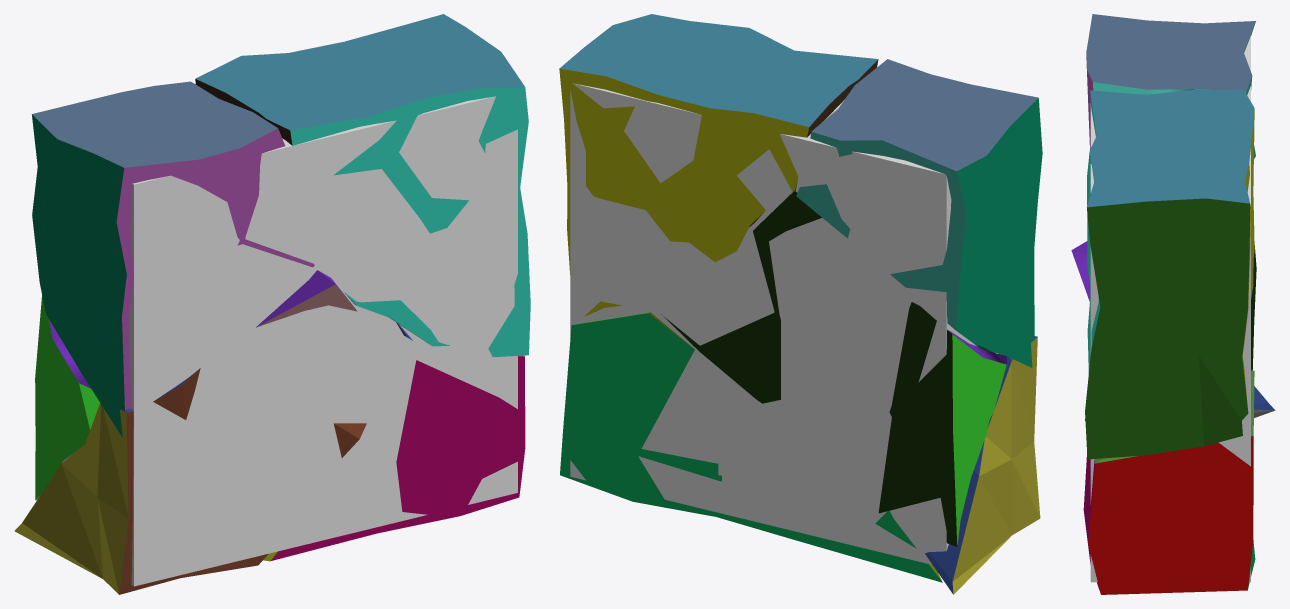
The model's file is fracture.fbx.
3 views of the same model, side by side, from view 1: azimuth 30°, elevation 25°; view 2: azimuth 150°, elevation 25°; view 3: azimuth 270°, elevation 25° (orthographic). The views are drawn at different scales.
Visible parts, largest first — view 1: Cube, CrackedWall.002, CrackedWall, CrackedWall.004, CrackedWall.003, CrackedWall.001; view 2: Cube, CrackedWall, CrackedWall.002, CrackedWall.001, CrackedWall.004, CrackedWall.003; view 3: CrackedWall, CrackedWall.004, CrackedWall.002, Cube, CrackedWall.001, CrackedWall.003.
Boxes of the visible parts, bbox=[...] form: Cube: bbox=[129, 96, 517, 586]; CrackedWall.002: bbox=[31, 81, 314, 437]; CrackedWall: bbox=[195, 14, 530, 357]; CrackedWall.004: bbox=[263, 355, 525, 561]; CrackedWall.003: bbox=[14, 322, 412, 594]; CrackedWall.001: bbox=[35, 270, 357, 500]; Cube: bbox=[570, 83, 998, 564]; CrackedWall: bbox=[559, 14, 878, 316]; CrackedWall.002: bbox=[796, 59, 1042, 367]; CrackedWall.001: bbox=[661, 191, 1006, 546]; CrackedWall.004: bbox=[560, 312, 942, 582]; CrackedWall.003: bbox=[925, 336, 1040, 594]; CrackedWall: bbox=[1085, 89, 1254, 459]; CrackedWall.004: bbox=[1083, 370, 1255, 594]; CrackedWall.002: bbox=[1086, 14, 1255, 158]; Cube: bbox=[1090, 36, 1250, 582]; CrackedWall.001: bbox=[1071, 241, 1256, 370]; CrackedWall.003: bbox=[1085, 386, 1275, 420].
Bounding box in the file's own units: 221 × 218 × 99.15.
